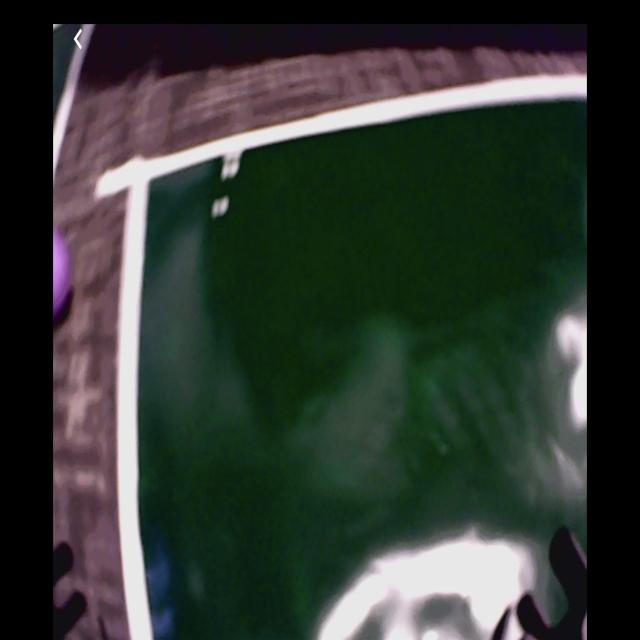ball: (55, 232, 76, 318)
